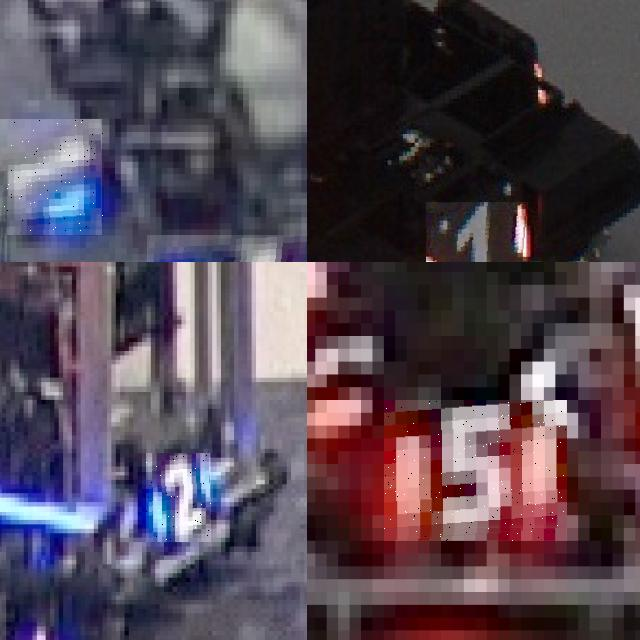B1: (0, 118, 103, 235)
B2: (146, 453, 212, 542)
R1: (426, 202, 528, 262)
R5: (384, 400, 567, 541)
